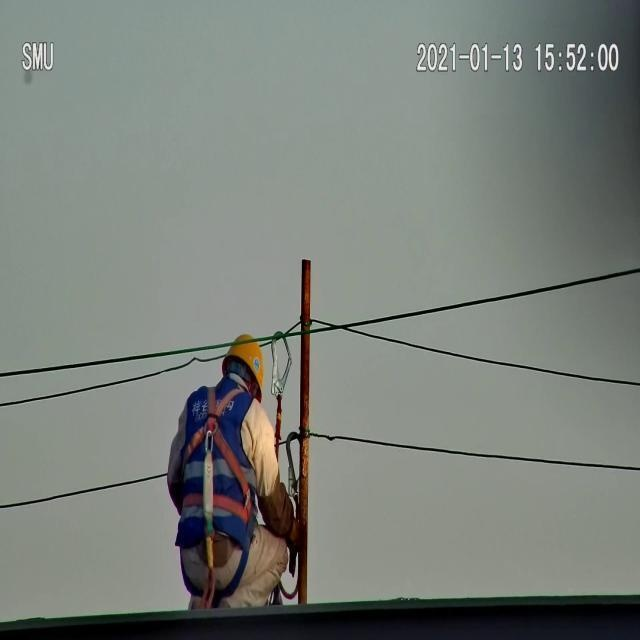Arnes_seguridad: (177, 372, 258, 553)
